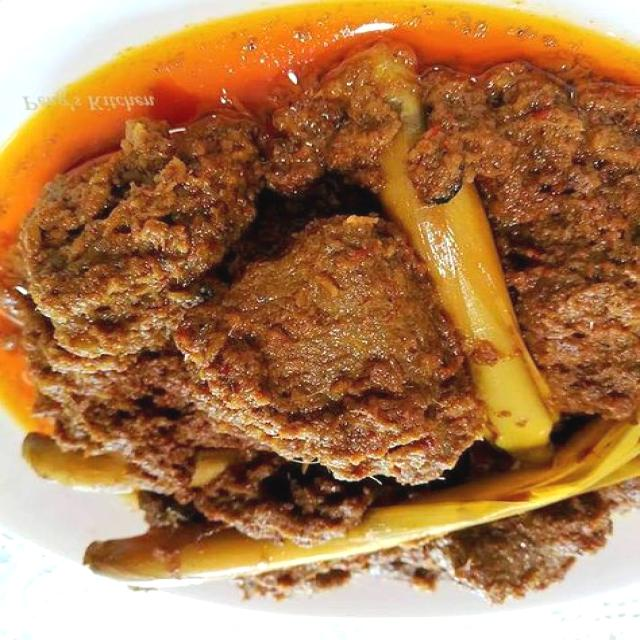rendang: (0, 6, 640, 602)
